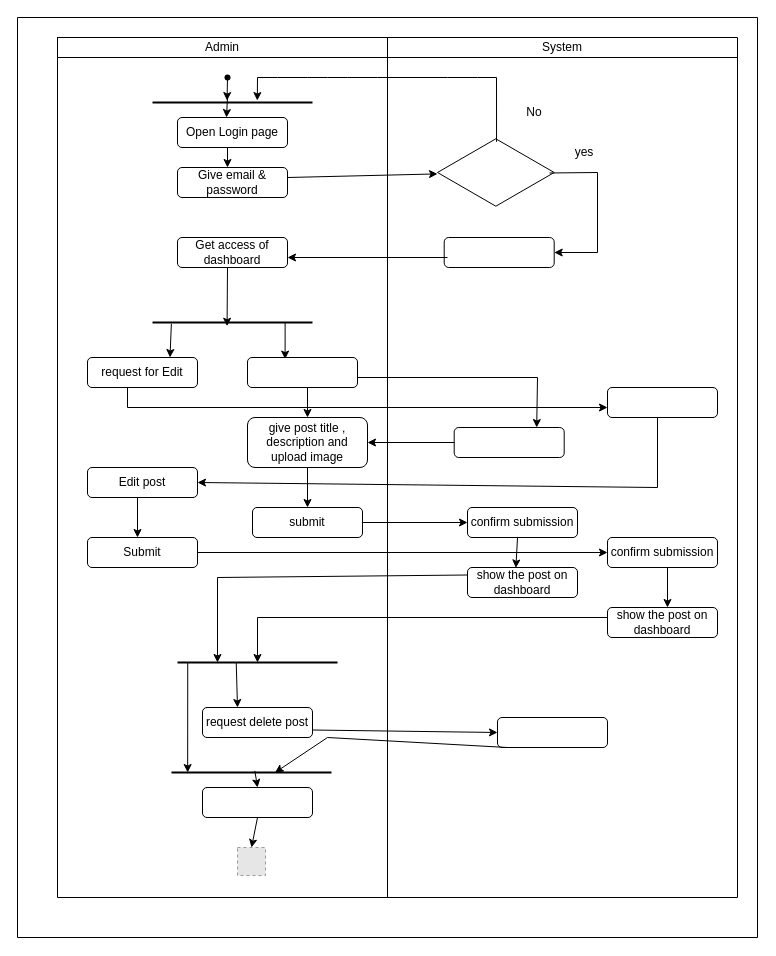
This 776x956 diagram has some shape labels left out. Grey dashed boxes stand in for pictures. Here are the shapes that lost their labels. From the top down, the centre of each, then its label:
At point 495,172: "correct email& password".
At point 498,252: "show dashboard".
At point 302,372: "request for create post".
At point 662,402: "show edit post form".
At point 508,442: "show create post form".
At point 552,732: "confirm delete post".
At point 257,802: "logout".
